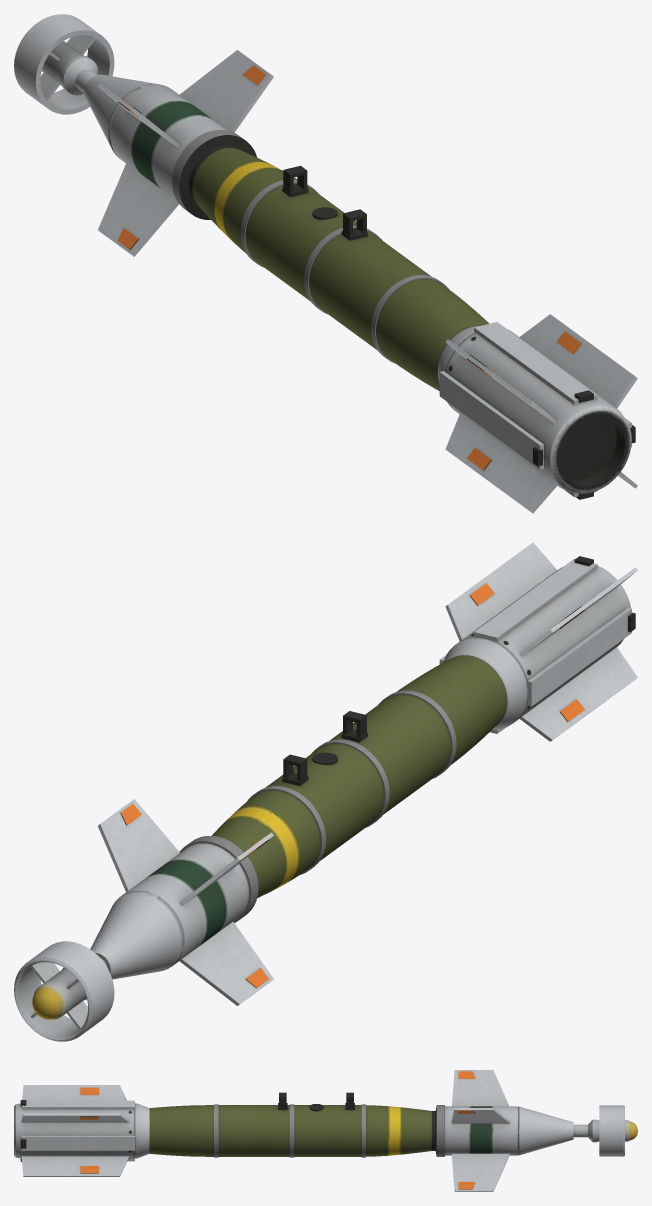
File: w_gbu12.glb
The picture shows the model from 3 angles, top to bottom: view 1: azimuth 30°, elevation 25°; view 2: azimuth 150°, elevation 25°; view 3: azimuth 270°, elevation 25°; orthographic projection. The views are drawn at different scales.
Visible parts, largest first — view 1: body|G12_atlas; view 2: body|G12_atlas; view 3: body|G12_atlas.
Part boxes in pixels (<box>): body|G12_atlas: <box>14,14,637,513</box>; body|G12_atlas: <box>14,542,637,1041</box>; body|G12_atlas: <box>14,1070,637,1191</box>.
Bounding box in the file's own units: 0.4907 × 0.4907 × 3.3.
Materials: 1 (1 with a texture image).
